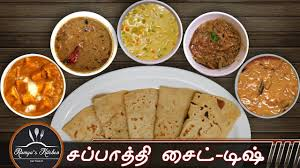curry: (53, 13, 117, 71), (116, 3, 180, 61), (185, 13, 249, 71), (236, 56, 300, 114), (2, 53, 66, 111)
roti: (69, 87, 243, 155)
